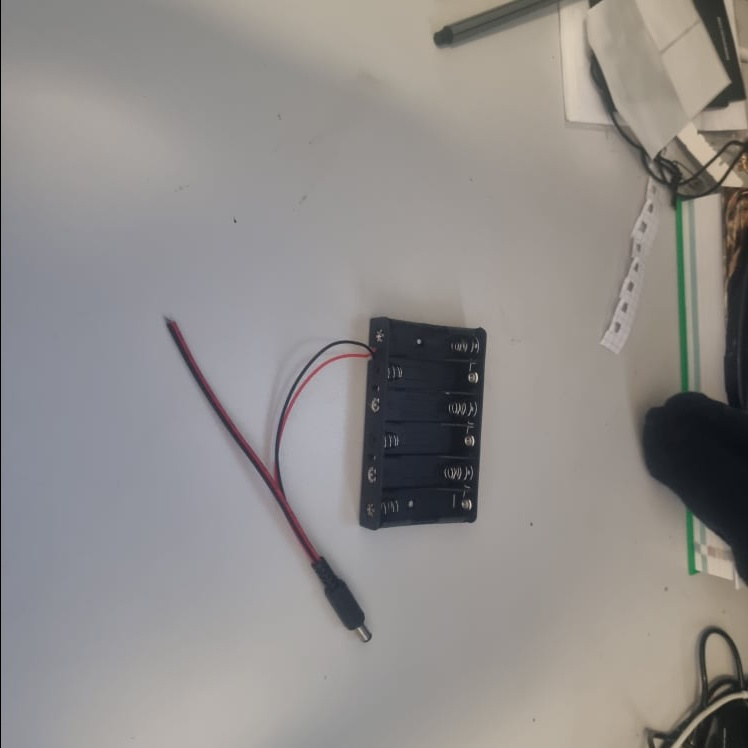BATTERY BOX: (357, 316, 487, 532)
